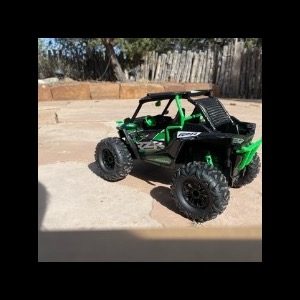polaris: (94, 90, 262, 222)
